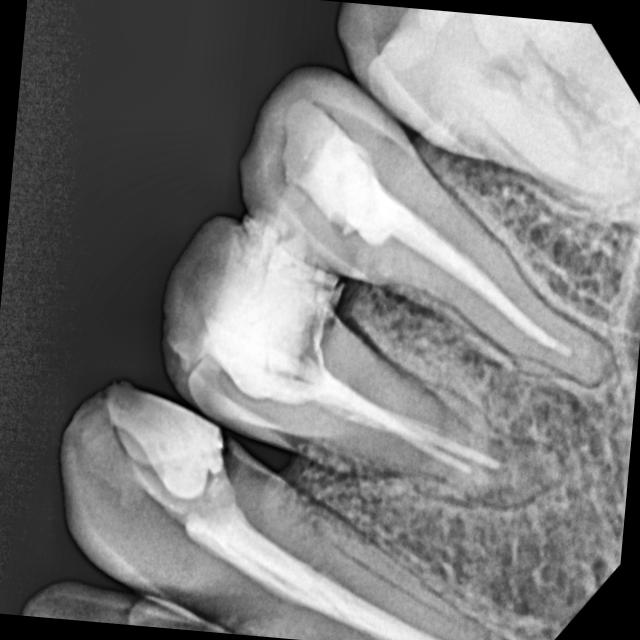Normal: (346, 17, 627, 173)
Overhang: (243, 196, 354, 326)
RCT: (290, 119, 574, 366), (280, 307, 529, 516), (197, 482, 466, 640)
Restoration: (100, 376, 232, 512)
